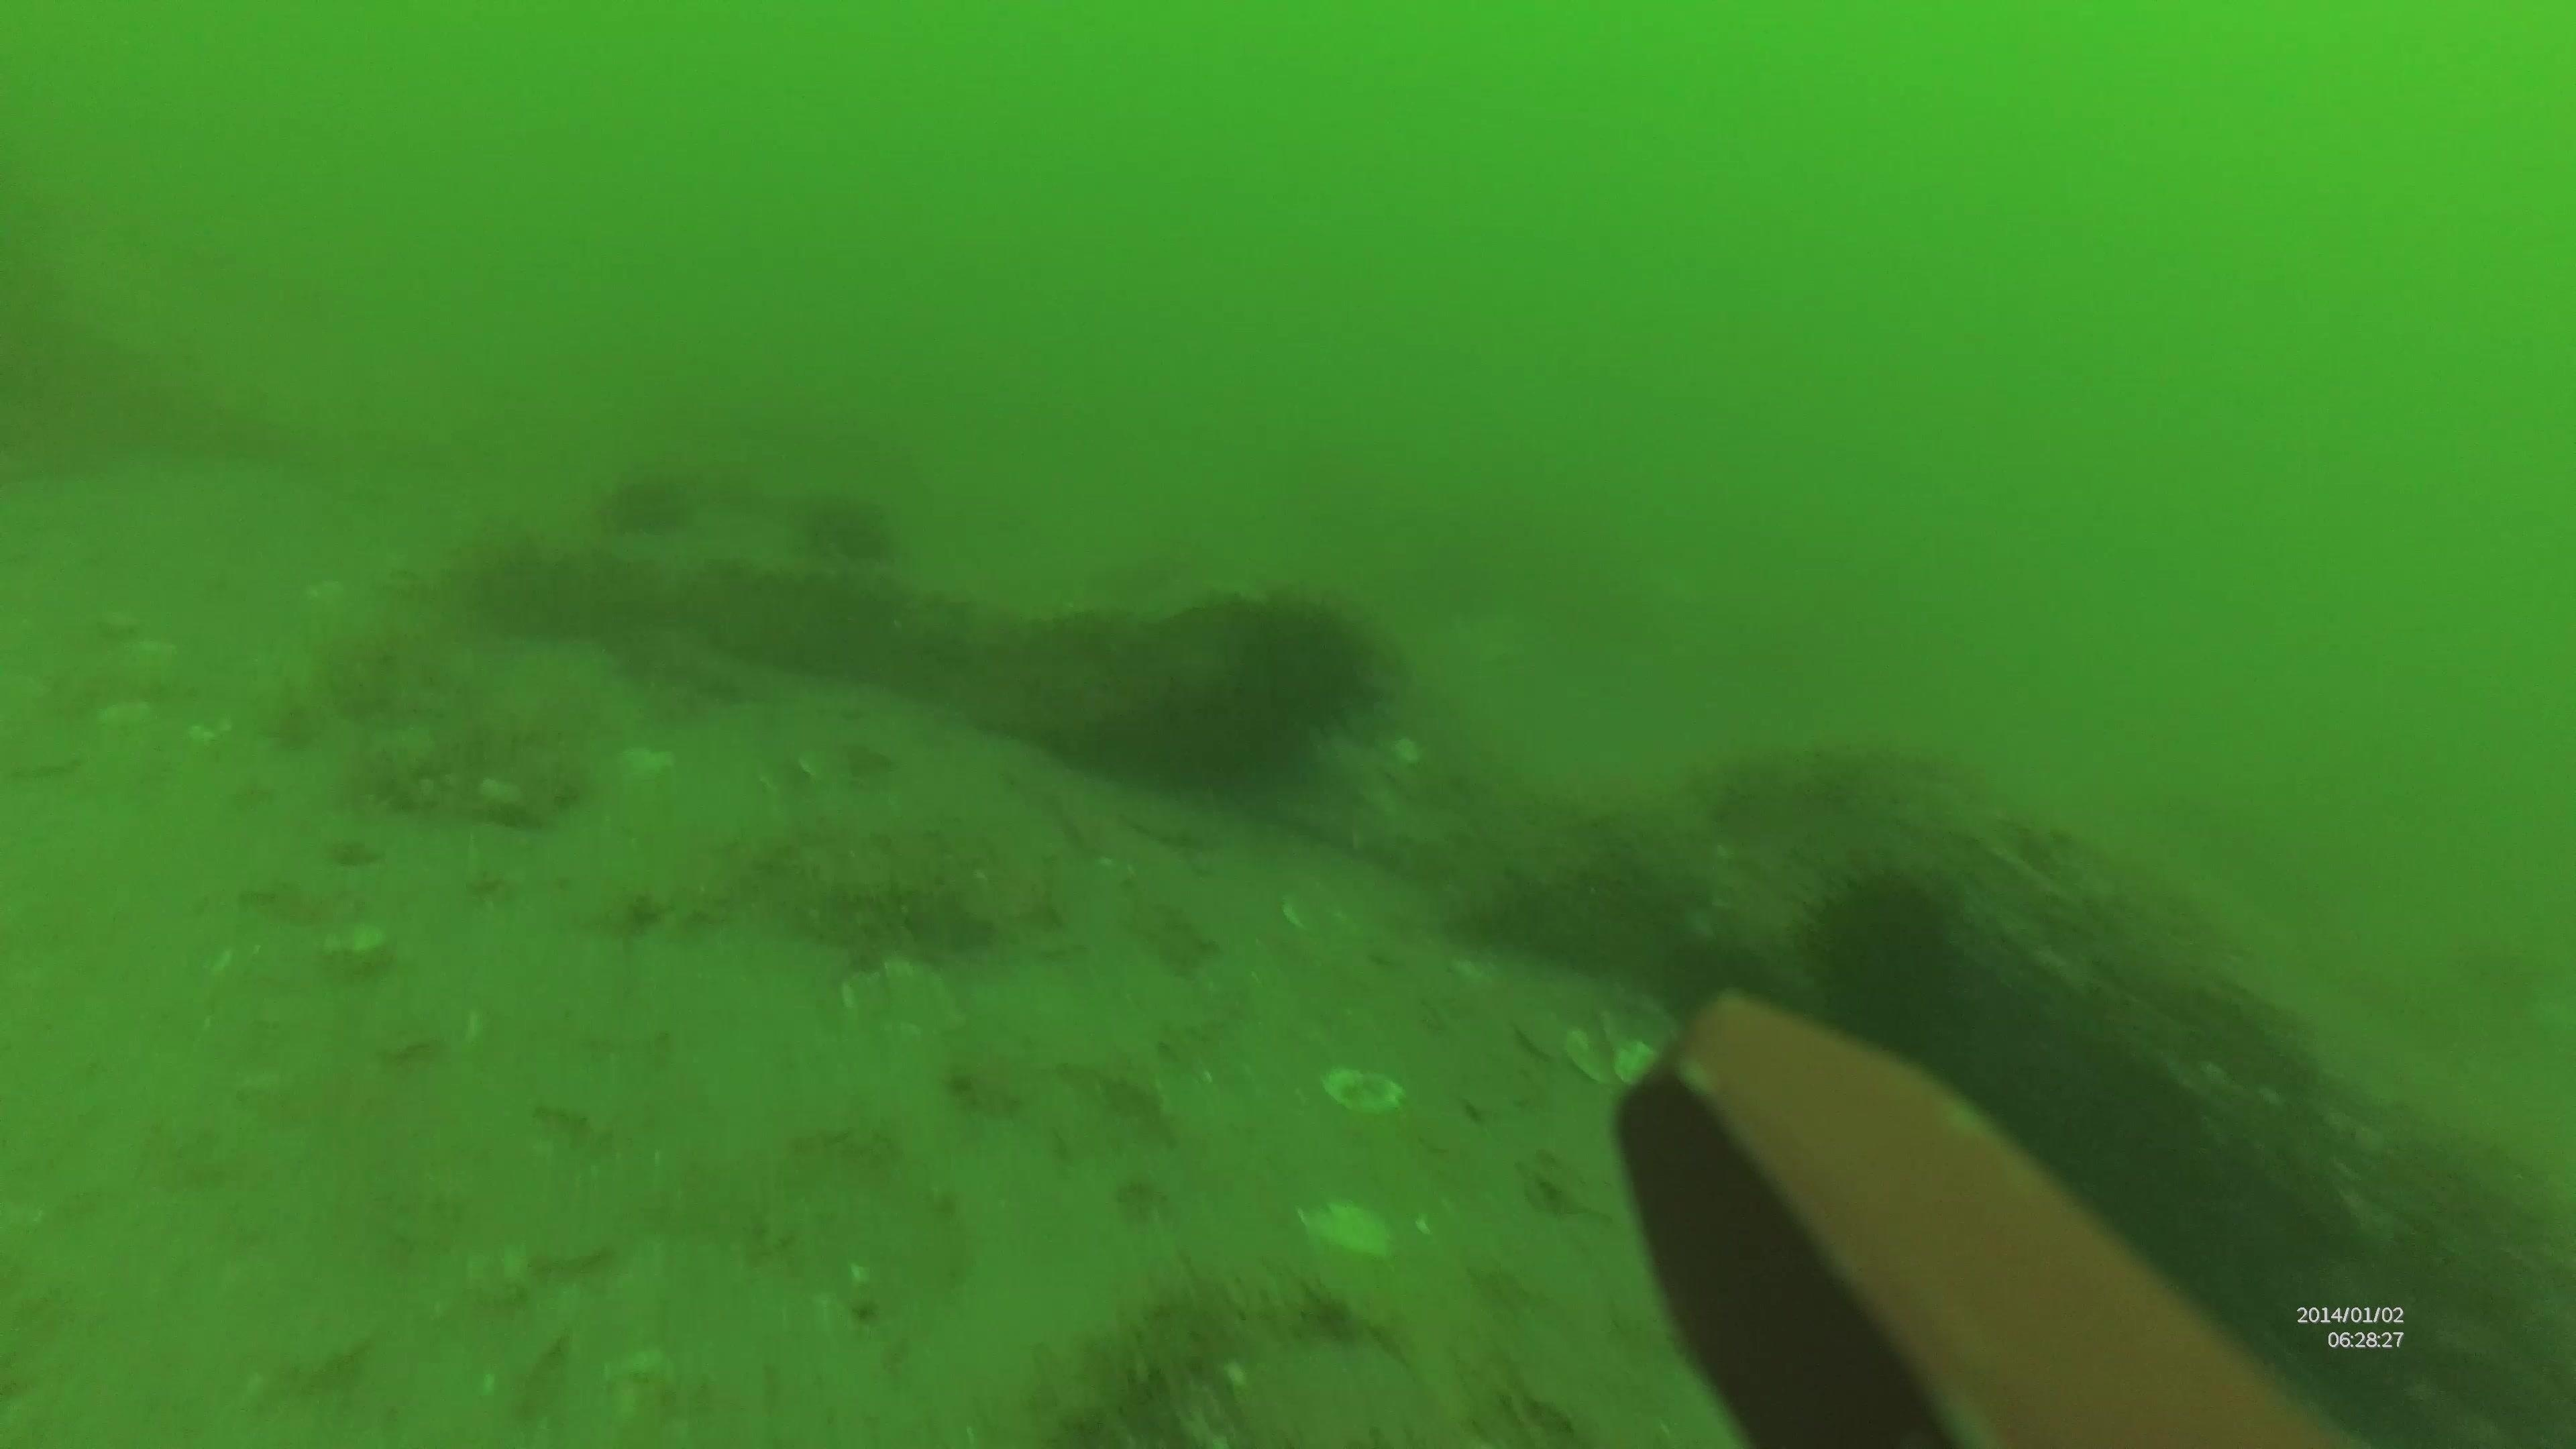echinus: (1196, 580, 1394, 768), (1789, 858, 1976, 1044), (596, 467, 704, 541), (816, 501, 913, 575)
